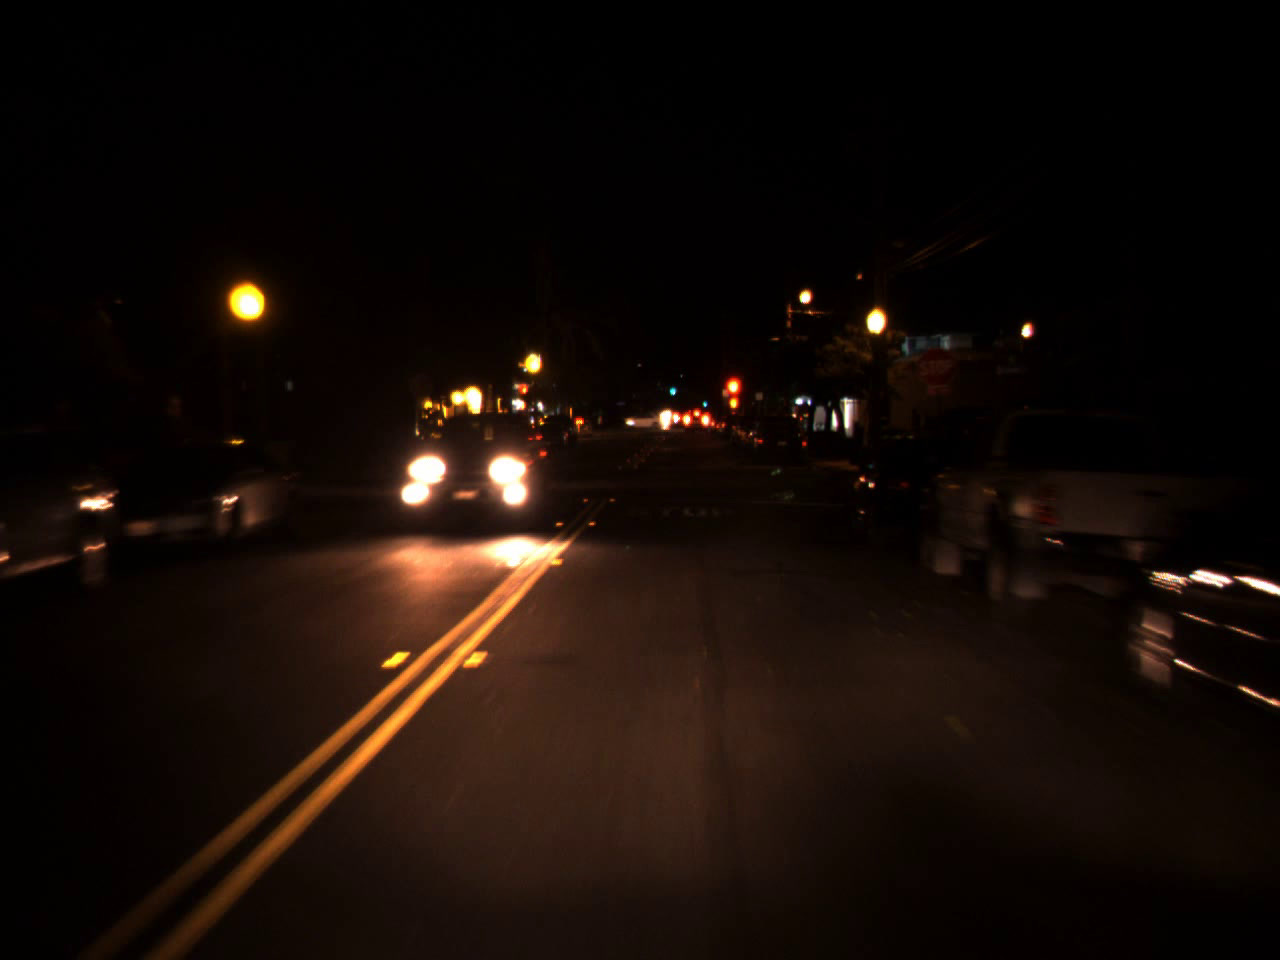go: (667, 381, 676, 396), (700, 395, 707, 407)
stop: (724, 377, 742, 409), (518, 383, 530, 404)
